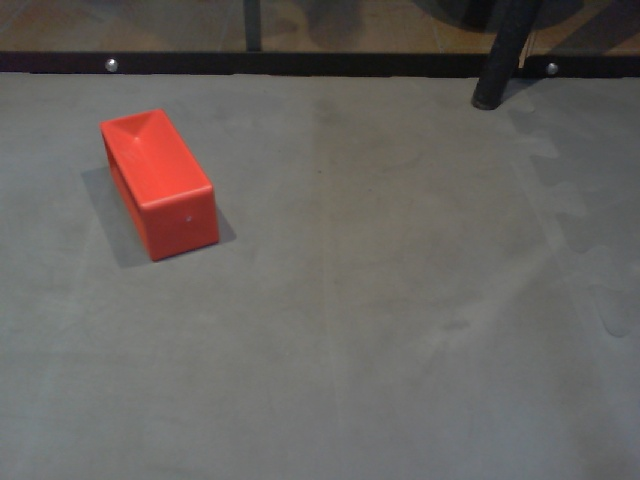RedSample: (98, 106, 221, 266)
